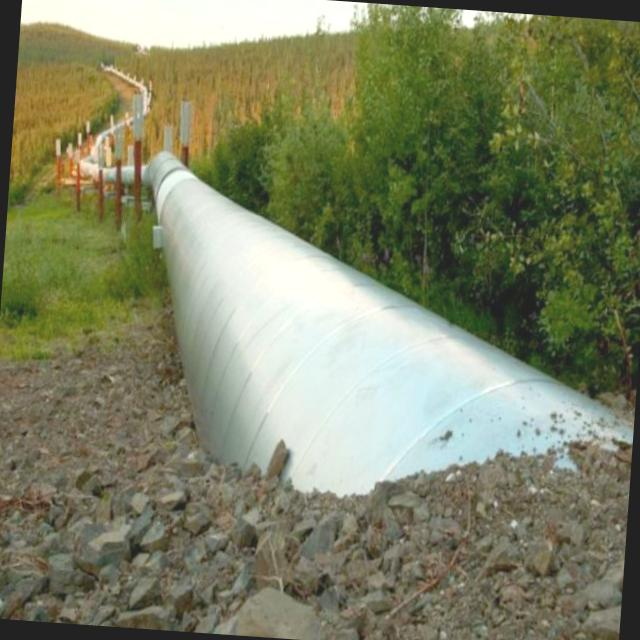gas: (149, 152, 633, 493)
